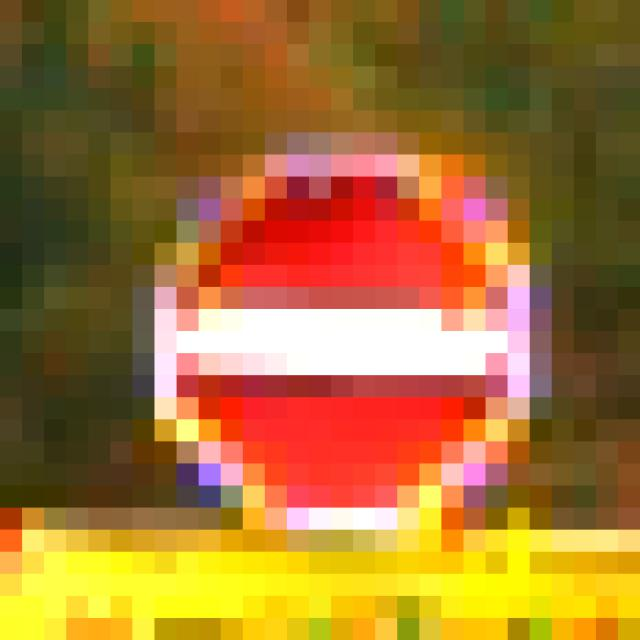No Entry: (134, 134, 531, 531)
